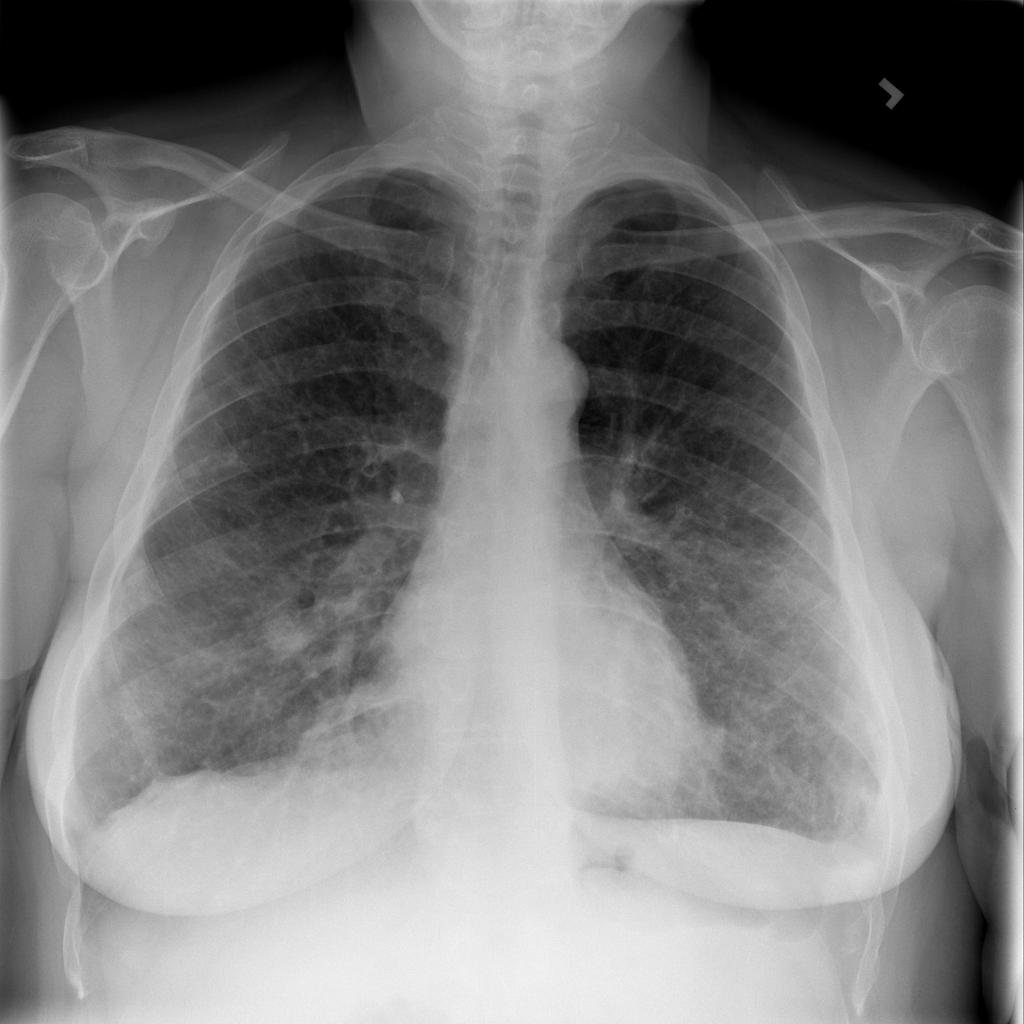nodule: (251, 593, 330, 670)
